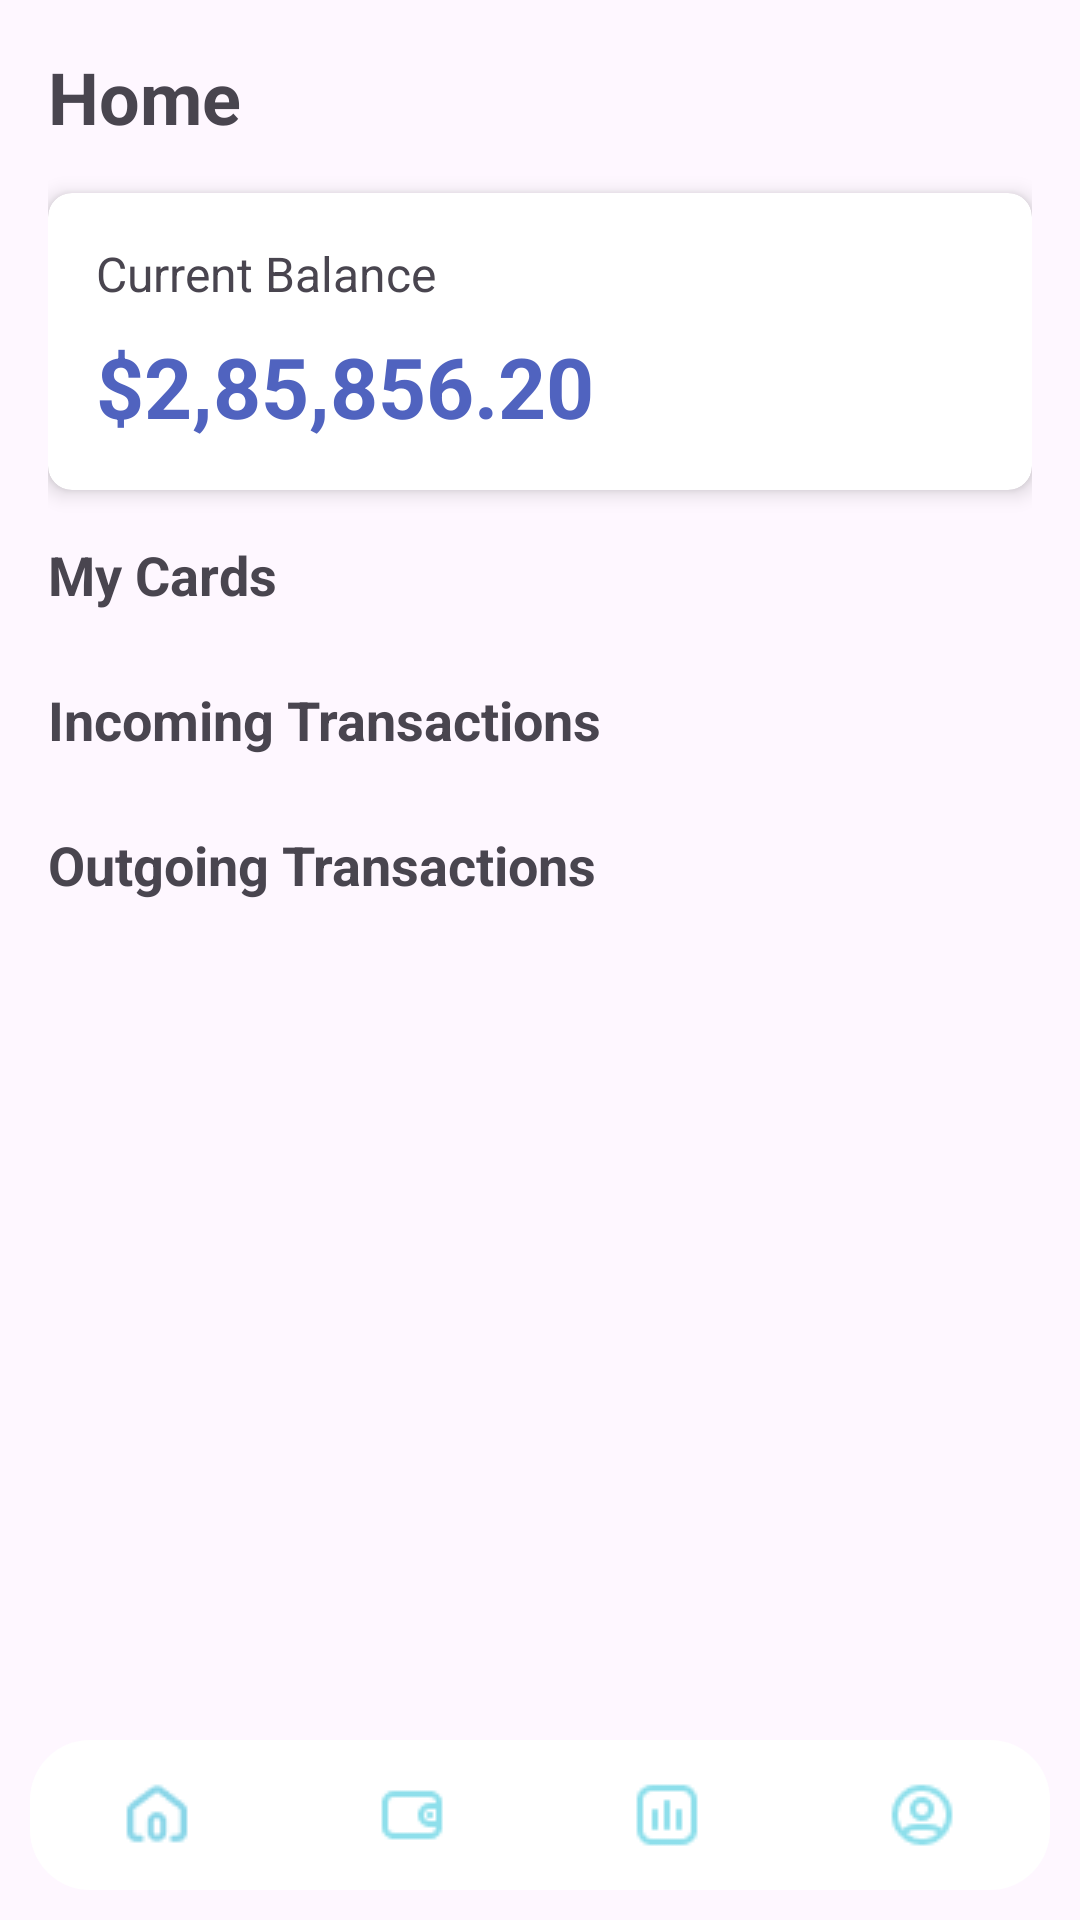

Icons on this 1080 x 1920 Android screen, each with the point to tap as (x,y):
chart: (667,1815)
home: (157,1813)
prof: (922,1815)
wallet: (412,1815)
